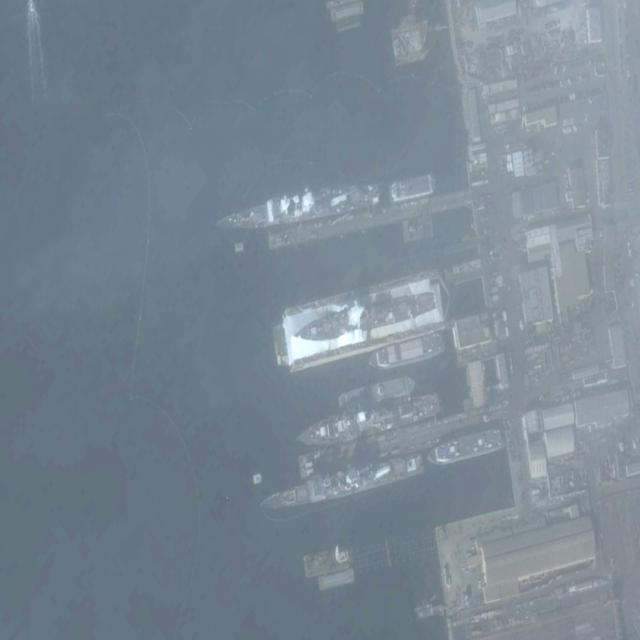Cruiser: (213, 167, 437, 238)
Other Ship: (424, 425, 504, 470)
Other Warship: (258, 447, 424, 519), (293, 388, 444, 455), (290, 286, 437, 350), (366, 329, 445, 376), (337, 372, 417, 414)
